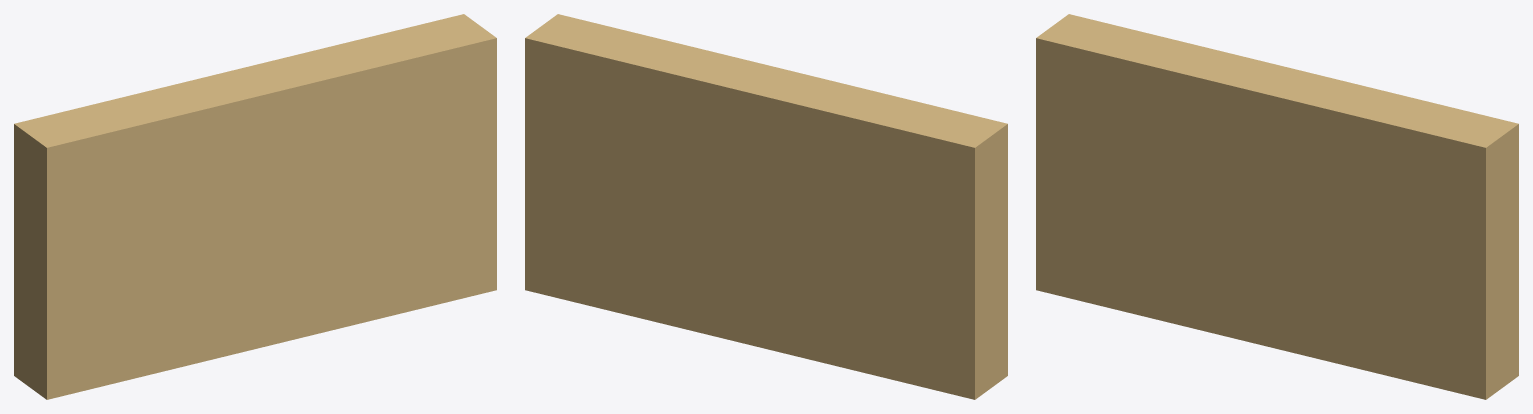
3 renders of one model, left to right at view 1: azimuth 30°, elevation 25°; view 2: azimuth 150°, elevation 25°; view 3: azimuth 330°, elevation 25°, orthographic.
Visible parts, largest first — view 1: GF-L12-BLK-EDGE-E-025; view 2: GF-L12-BLK-EDGE-E-025; view 3: GF-L12-BLK-EDGE-E-025.
Part boxes in pixels (x1,y1,x2,y2): GF-L12-BLK-EDGE-E-025: [14, 14, 496, 399]; GF-L12-BLK-EDGE-E-025: [525, 14, 1007, 399]; GF-L12-BLK-EDGE-E-025: [1036, 14, 1518, 399].
Bounding box in the file's own units: 0.355 × 0.19 × 0.045.
